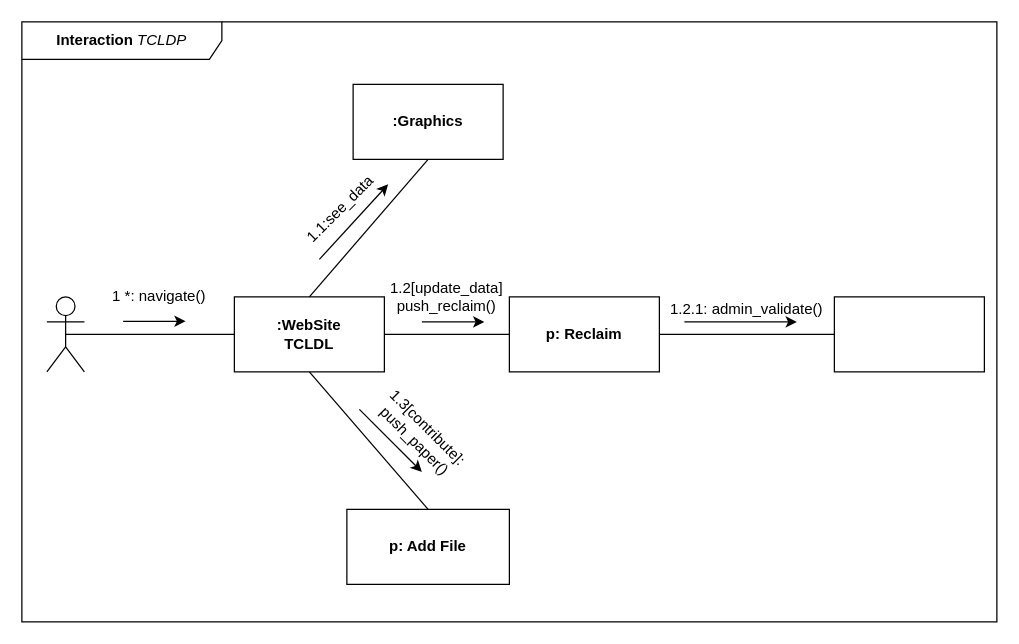
Some shapes in this 1019 by 644 pixel diagram are drawn without their labels. Here are the shapes that lost their labels. From the top down, the centre of each, then its label:
At pixel 65 334: "Actor".
At pixel 908 334: ":Admin Check".
